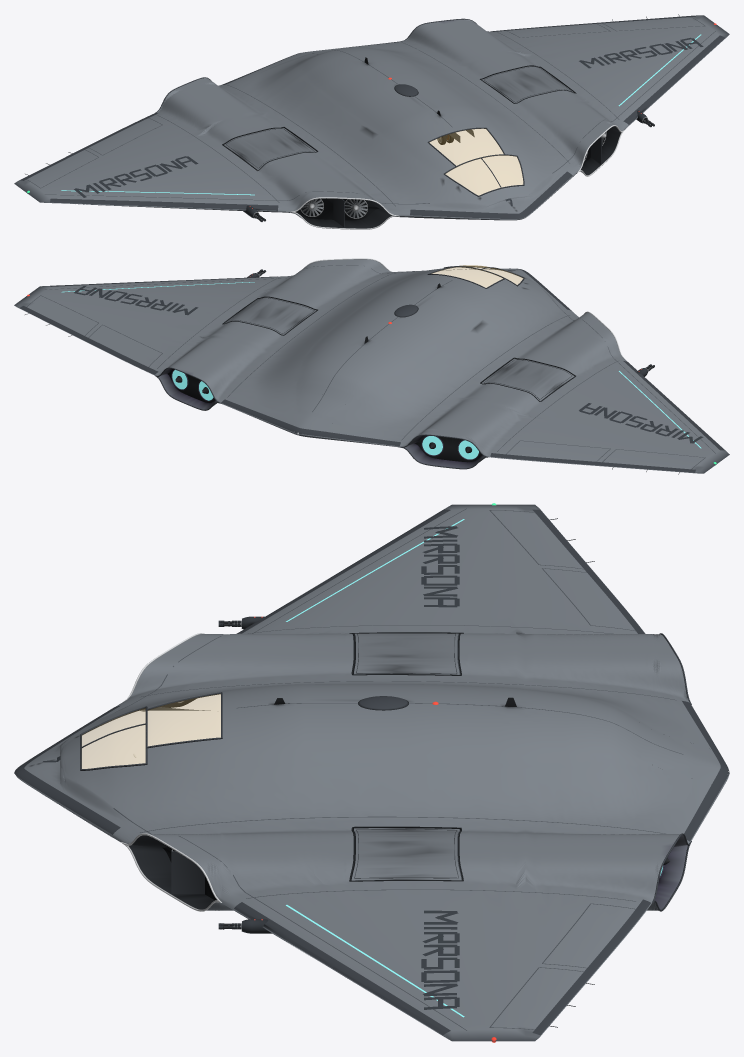
File: vtol.glb
3 renders of one model, top to bottom at view 1: azimuth 30°, elevation 25°; view 2: azimuth 150°, elevation 25°; view 3: azimuth 270°, elevation 25°, orthographic. The views are drawn at different scales.
Visible parts, largest first — view 1: body, canopy, pod_r, pod_l; view 2: body, pod_r, cargo_door, pod_l, canopy; view 3: body, canopy, pod_l, pod_r, cargo_door.
Boxes of the visible parts, <box> form: body: <box>14,14,729,229</box>; canopy: <box>429,129,522,195</box>; pod_r: <box>224,128,316,170</box>; pod_l: <box>481,66,573,103</box>; body: <box>14,258,729,474</box>; pod_r: <box>481,358,574,401</box>; cargo_door: <box>278,392,345,438</box>; pod_l: <box>224,297,316,334</box>; canopy: <box>432,265,522,287</box>; body: <box>14,503,720,1042</box>; canopy: <box>82,694,220,768</box>; pod_l: <box>350,828,462,880</box>; pod_r: <box>353,633,460,674</box>; cargo_door: <box>647,727,729,790</box>.
Bounding box in the file's own units: 44 × 5.52 × 24.8.
